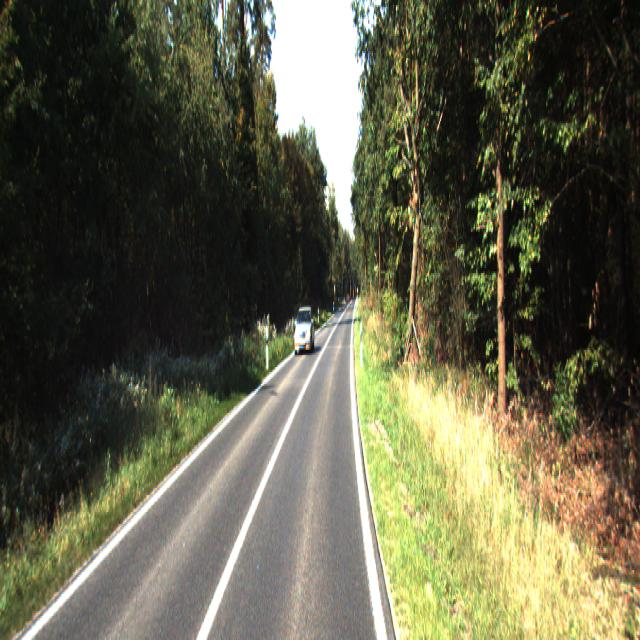Car: (294, 305, 316, 355)
